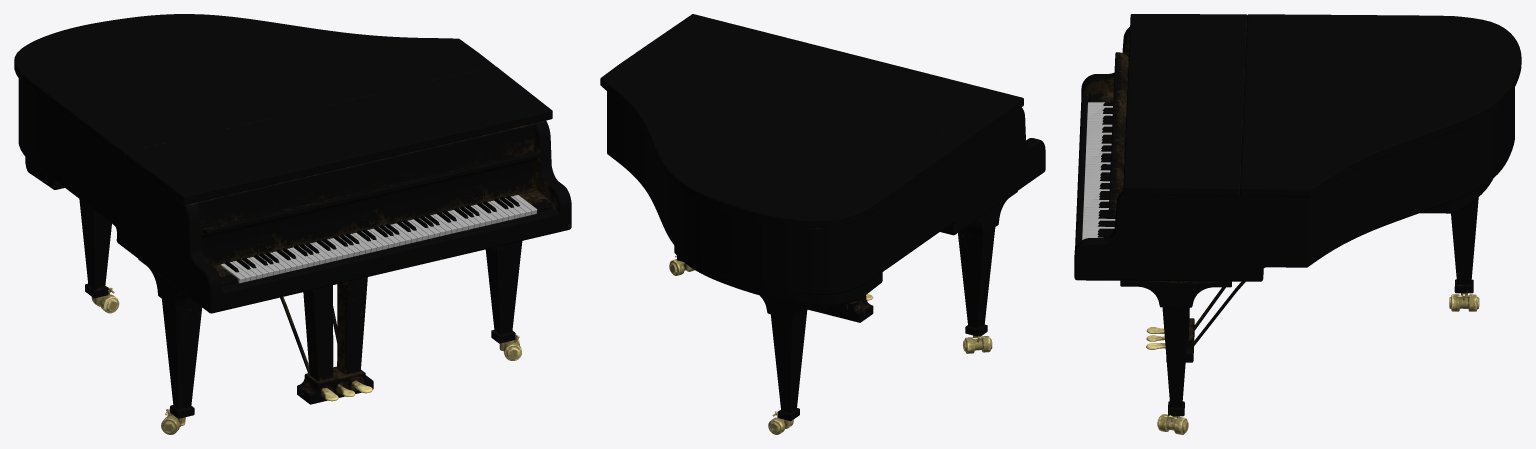
File: grand_piano_(GLB).gltf
The picture shows the model from 3 angles, left to right: view 1: azimuth 30°, elevation 25°; view 2: azimuth 150°, elevation 25°; view 3: azimuth 270°, elevation 25°; orthographic projection. The views are drawn at different scales.
Parts seen in each view (by area): view 1: Piano; view 2: Piano; view 3: Piano.
Part boxes in pixels (bbox=[...]): Piano: bbox=[14, 14, 571, 434]; Piano: bbox=[600, 14, 1045, 434]; Piano: bbox=[1074, 14, 1521, 434].
Size of the model in its own units: 1.54 by 1.04 by 1.66.
Materials: 1 (1 with a texture image).
